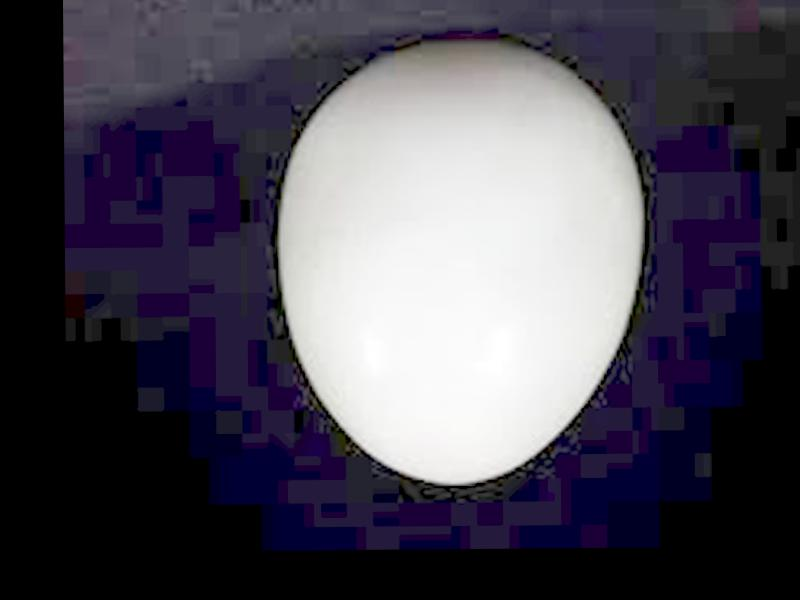Eggs: (280, 34, 638, 482)
